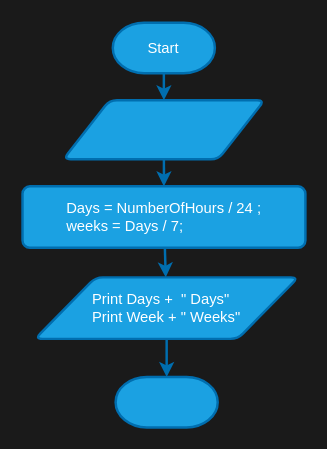
Image size: 327x449. Some labels were removed from this diagram. Here are the shapes that lost their labels. From the top down, the centre of each, then its label:
At (163,129): "Read NumberOfHours".
At (166,401): "End".
